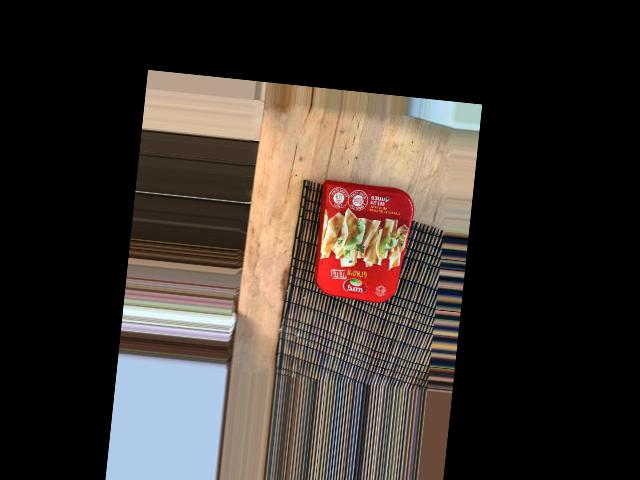cheese: (305, 251, 436, 356)
